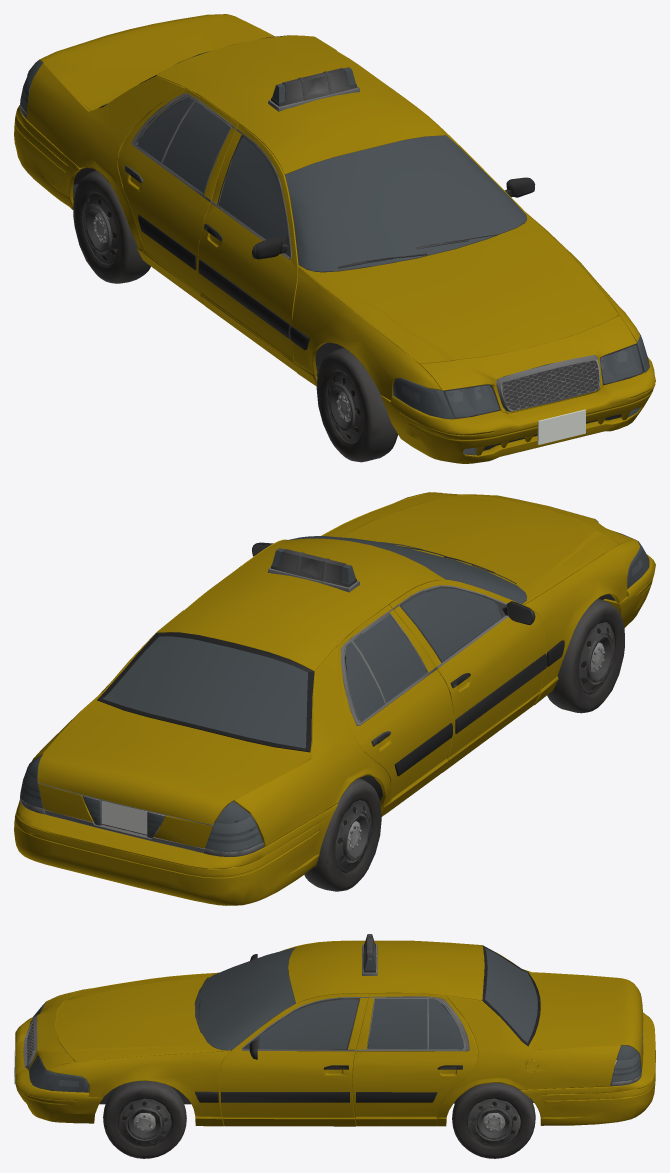
The picture shows the model from 3 angles, top to bottom: view 1: azimuth 30°, elevation 25°; view 2: azimuth 150°, elevation 25°; view 3: azimuth 270°, elevation 25°; orthographic projection. The views are drawn at different scales.
Visible parts, largest first — view 1: body, glass, wheel_FL, wheel_RL; view 2: body, glass, wheel_FL, wheel_RL; view 3: body, glass, wheel_FR, wheel_RR.
Boxes of the visible parts, bbox=[...] form: body: bbox=[14, 14, 655, 463]; glass: bbox=[20, 60, 649, 455]; wheel_FL: bbox=[316, 347, 398, 462]; wheel_RL: bbox=[73, 170, 150, 283]; body: bbox=[14, 492, 655, 905]; glass: bbox=[20, 536, 649, 852]; wheel_FL: bbox=[547, 598, 624, 713]; wheel_RL: bbox=[304, 778, 381, 891]; body: bbox=[14, 936, 655, 1126]; glass: bbox=[29, 934, 642, 1092]; wheel_FR: bbox=[103, 1081, 186, 1158]; wheel_RR: bbox=[452, 1082, 535, 1158].
Bounding box in the file's own units: 1.94 × 1.57 × 5.37.
